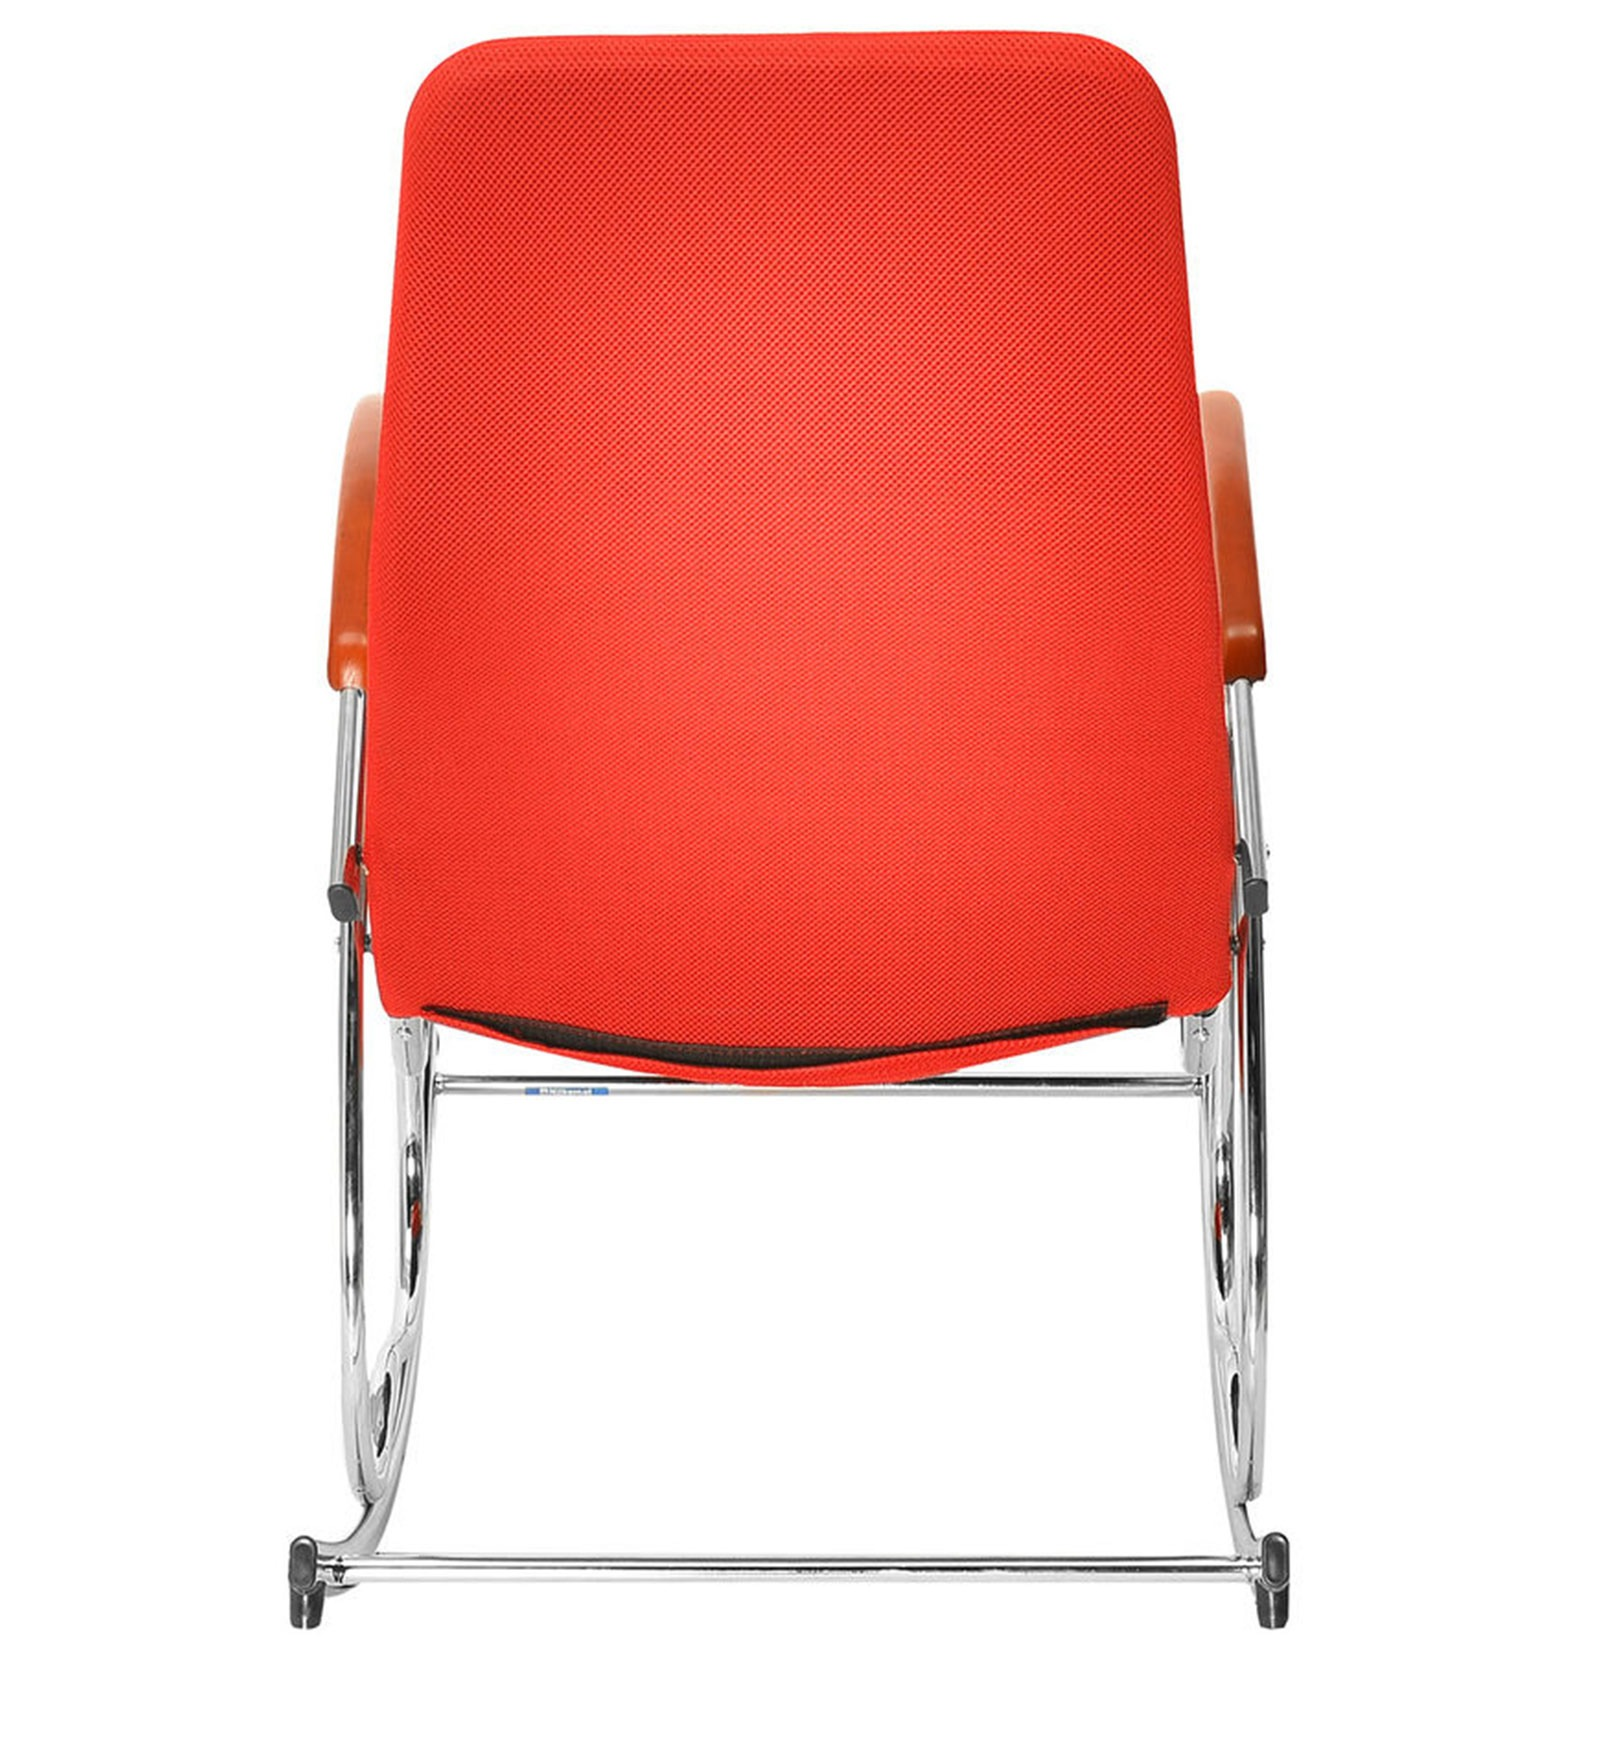Dylan Rocking Chair in Red Colour by Nilkamal: (231, 12, 1376, 1685)
